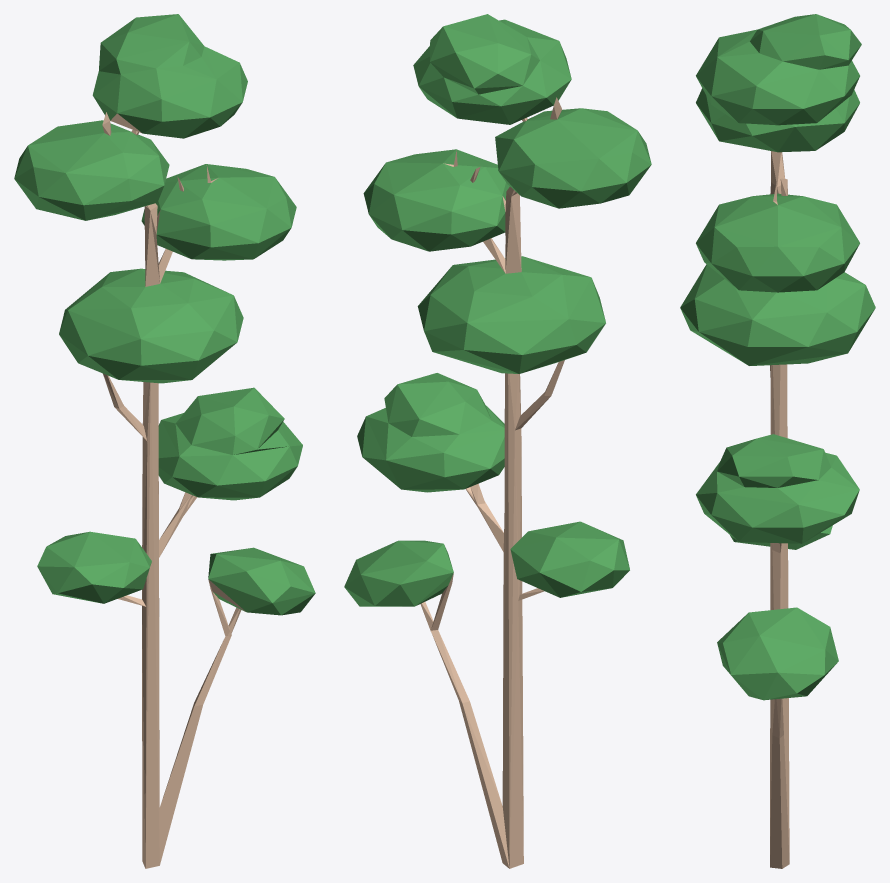
File: tree33.fbx
3 renders of one model, left to right at view 1: azimuth 30°, elevation 25°; view 2: azimuth 150°, elevation 25°; view 3: azimuth 270°, elevation 25°, orthographic. The views are drawn at different scales.
Visible parts, largest first — view 1: treetype33; view 2: treetype33; view 3: treetype33.
Part boxes in pixels (left/top/right/bottom): treetype33: left=14, top=14, right=315, bottom=868; treetype33: left=344, top=14, right=651, bottom=868; treetype33: left=680, top=14, right=875, bottom=868.
Bounding box in the file's own units: 82.52 × 233 × 48.29.
